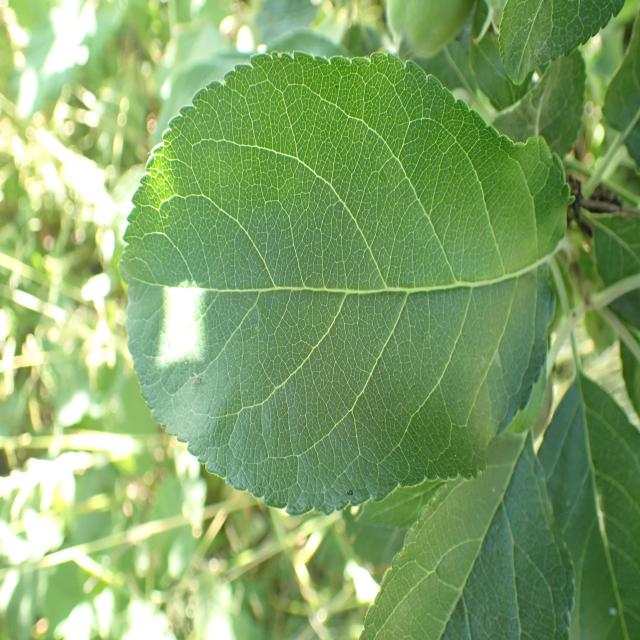healthy: (120, 48, 575, 518), (360, 428, 577, 640), (535, 364, 640, 640)
